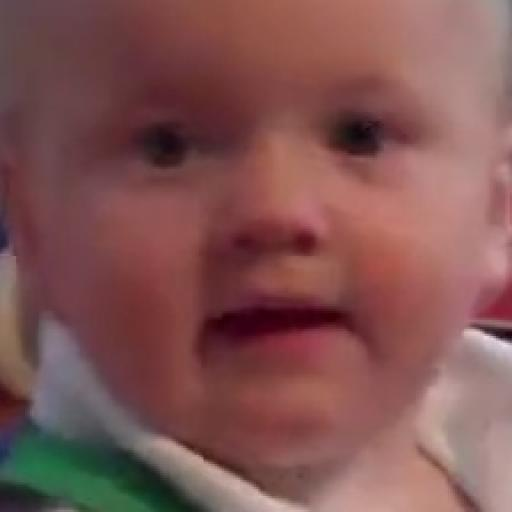Autism: (39, 13, 490, 446)
